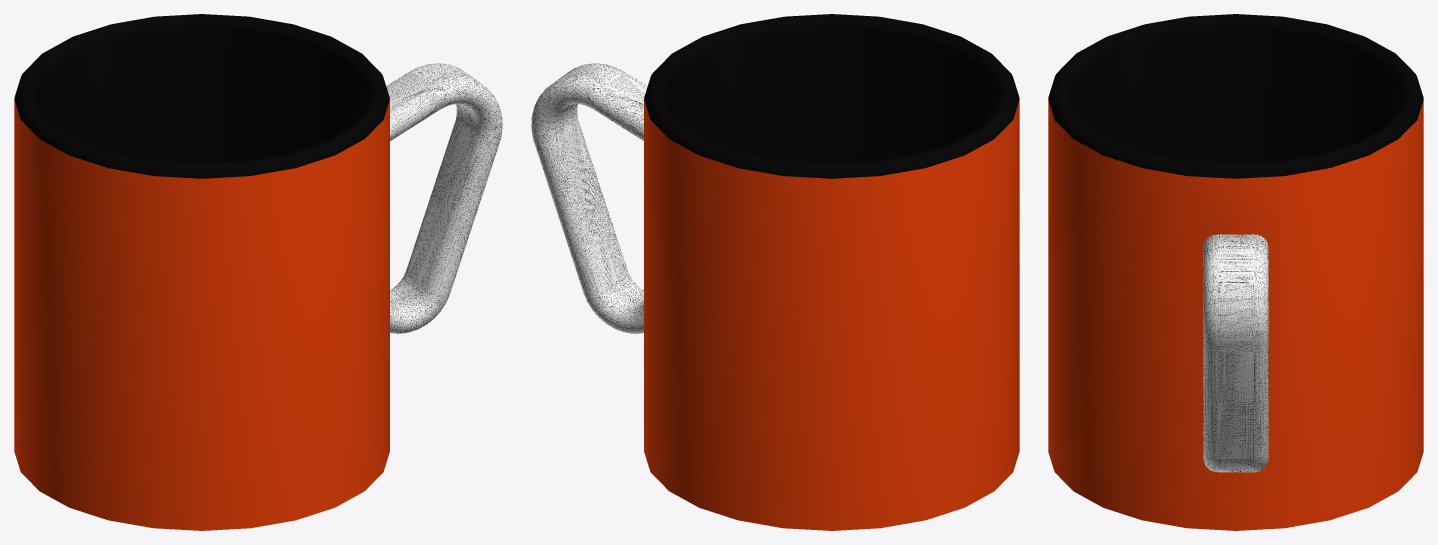
Rendered from mug_01_origin_gt_7.dae.
3 renders of one model, left to right at view 1: azimuth 30°, elevation 25°; view 2: azimuth 150°, elevation 25°; view 3: azimuth 270°, elevation 25°, orthographic.
Visible parts, largest first — view 1: SketchUp (×3); view 2: SketchUp (×3); view 3: SketchUp (×3).
Boxes of the visible parts, x1=… form: SketchUp (×3): x1=14, y1=14, x2=502, y2=530; SketchUp (×3): x1=531, y1=14, x2=1019, y2=530; SketchUp (×3): x1=1048, y1=14, x2=1423, y2=530.
Bounding box in the file's own units: 71.99 × 51.8 × 55.05.
